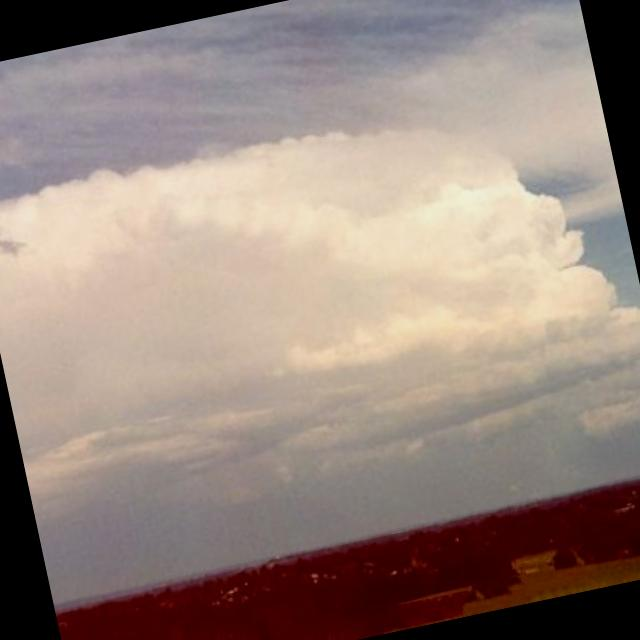cumulonimbus: (0, 23, 640, 594)
